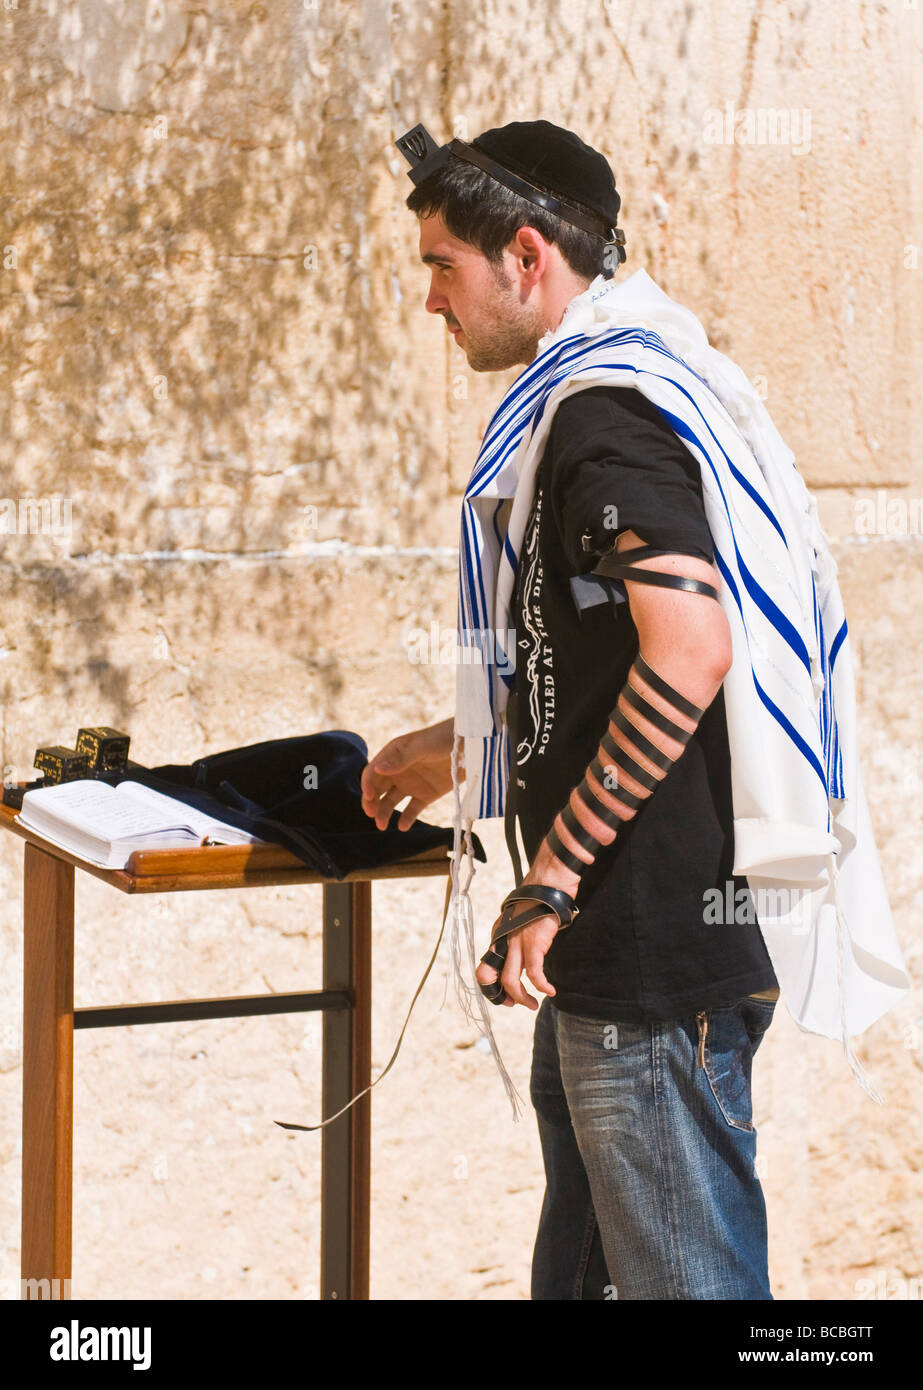tefillin: (398, 127, 459, 183), (574, 565, 633, 617)
